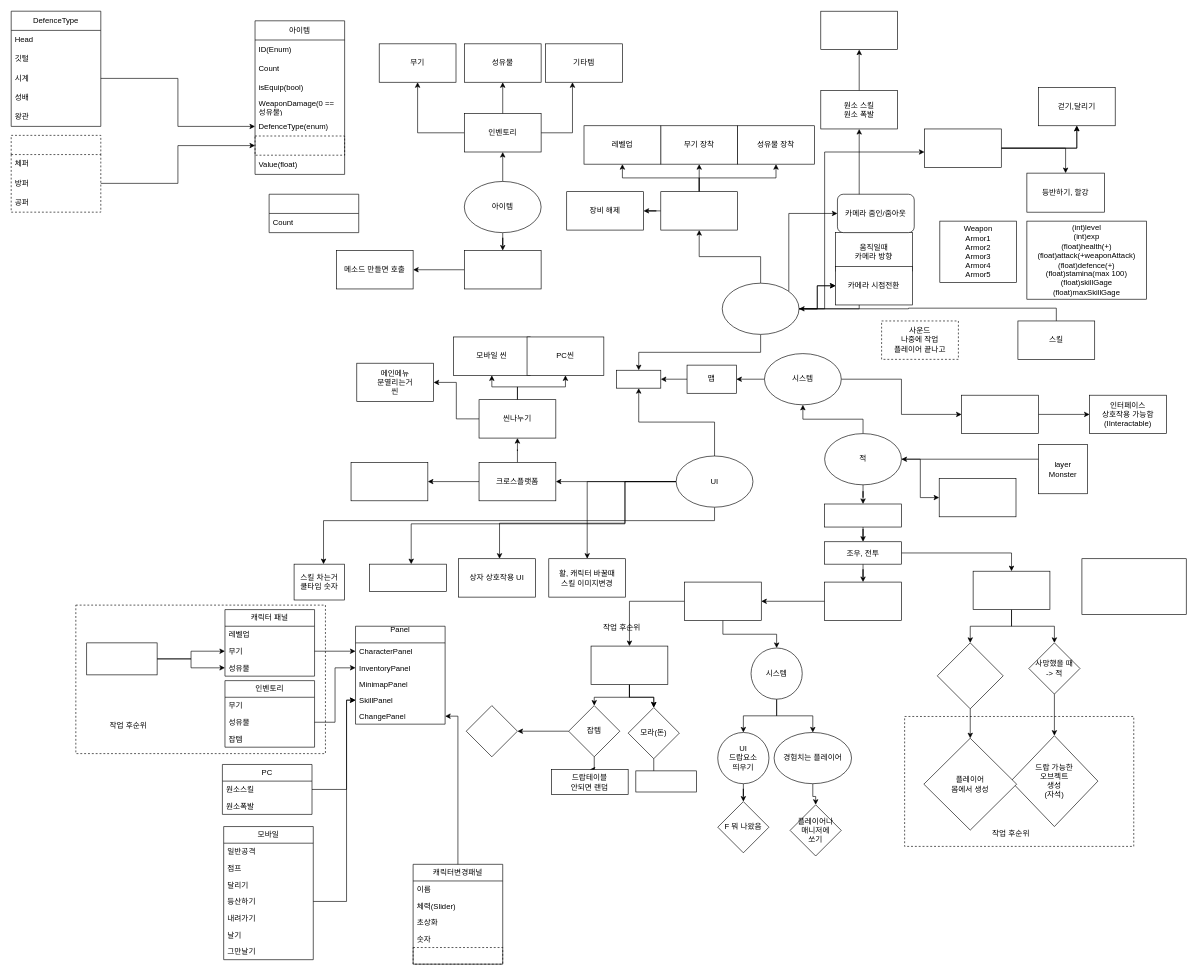
The diagram is 1197 pixels wide and 977 high, and some of its shapes have lost their labels. The shapes that lost their labels are listed below. From the top down, each one's box as (x1, y1, x2, y2) in pixels, then its label:
(820, 11, 898, 50): 원소 에너지
(254, 135, 345, 155): //Main(enum)
(924, 128, 1001, 167): 캐릭터 애니메이션
(11, 135, 101, 212): List
(268, 194, 359, 233): 모라
(660, 191, 738, 230): 캐릭터 정보창
(464, 250, 541, 289): 데이터 베이스
(722, 283, 799, 334): 캐릭터(플레이어)
(616, 370, 661, 388): 미니맵
(961, 395, 1038, 434): 상자, 아이템
(350, 462, 428, 501): 상호작용 버튼으로 전부 구현
(939, 478, 1016, 517): 애니메이션 구현
(824, 503, 901, 527): 탐색 시스템
(369, 564, 446, 592): 아이템 드랍 UI
(972, 571, 1050, 610): 피격 시 원소 에너지 드랍
(1081, 558, 1186, 614): (int)level (float)health (float)attack(+weaponAttack) (float)defence
(684, 581, 761, 620): 아이템 드랍 경험치 드랍
(824, 581, 901, 620): HP -> 0 사망처리
(86, 642, 157, 675): «성유물,무기 패널» 교체가능
(590, 645, 668, 684): 아이템 드랍 게임오브젝트 생성
(937, 642, 1003, 709): 원소스킬 공격 -> 플레이어
(466, 705, 517, 757): Tag Interactable
(635, 770, 697, 792): 데이터로만 처리 오브젝트 드랍x
(412, 947, 503, 964): 궁극기
